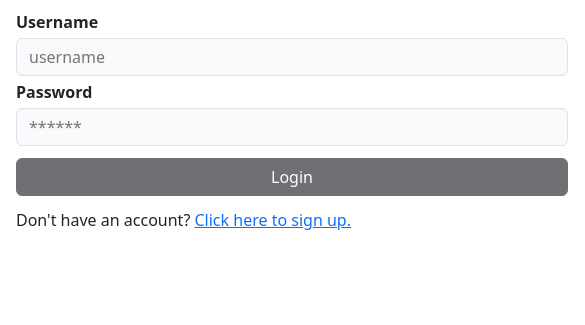
Login component › should render the error message when login request failed due to invalid username
The width and height of the screenshot is (585, 325).
In the field named "username-input": [292, 57] box [16,38,568,76], type "john.doe"
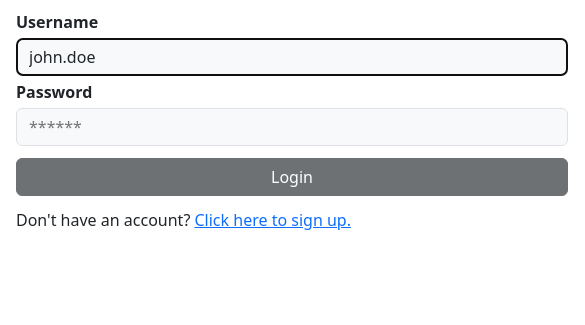
In the password field named "password-input": [292, 127] box [16,108,568,146], type "123123"
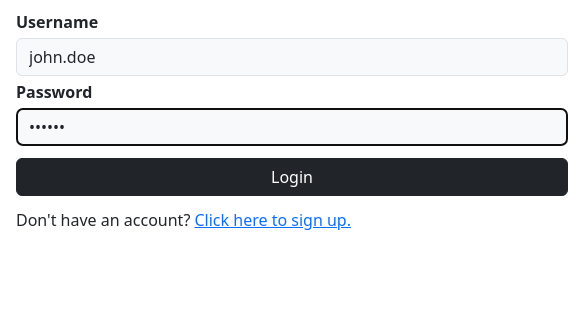
Click the button "Login": [292, 177] box [16,158,568,196]
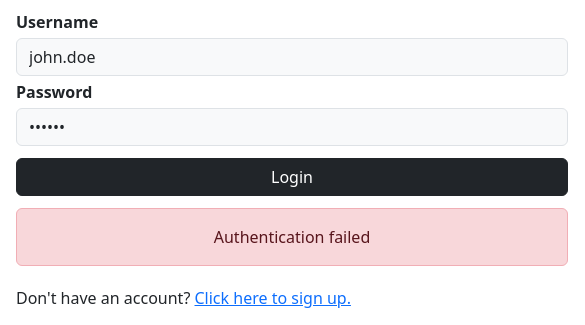
Expected: the text "Authentication failed" is shown, [16,208,568,266]
